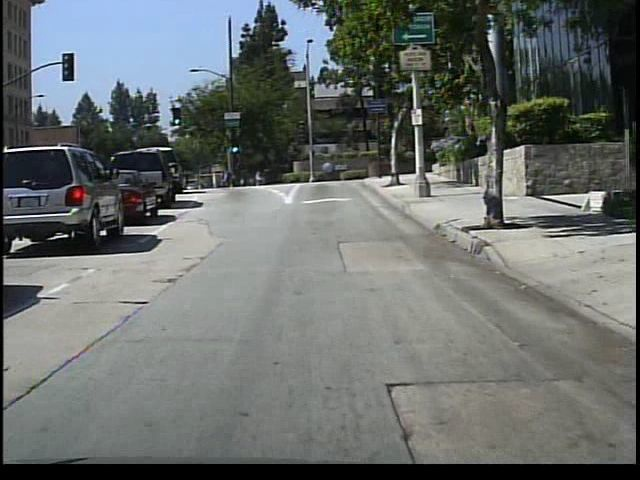person: (251, 165, 267, 189), (220, 165, 235, 190)
